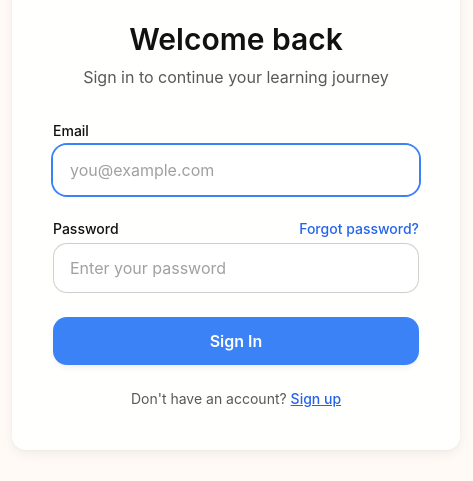
Test: LoginPage › form validation › shows error for invalid email format
Type "invalid-email" into the field labelled "Email" at {"x": 236, "y": 170}, box [53,145,419,195]
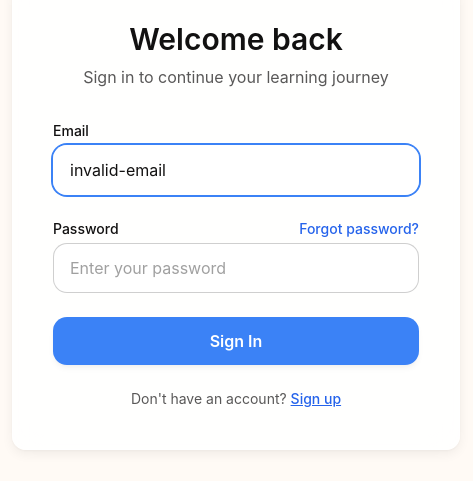
Press Tab
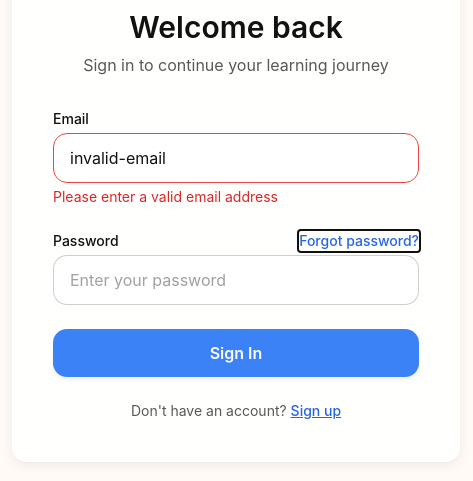
Expected: the text "Please enter a valid email address" is shown, [53,188,278,205]
